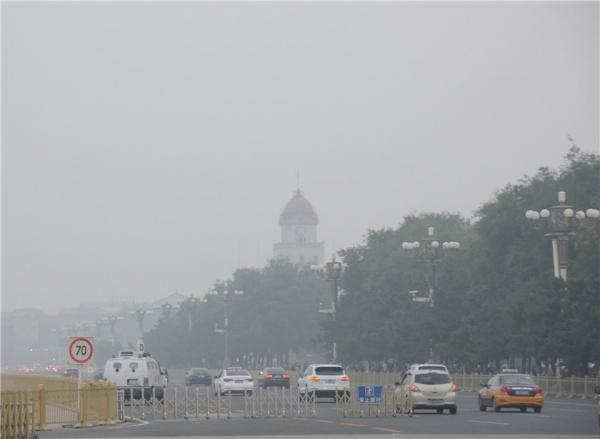car: (103, 351, 167, 403), (476, 367, 544, 413), (392, 370, 458, 416), (401, 363, 454, 406), (296, 362, 350, 403), (214, 366, 254, 396), (257, 366, 290, 390), (185, 367, 211, 386), (63, 368, 81, 382)
